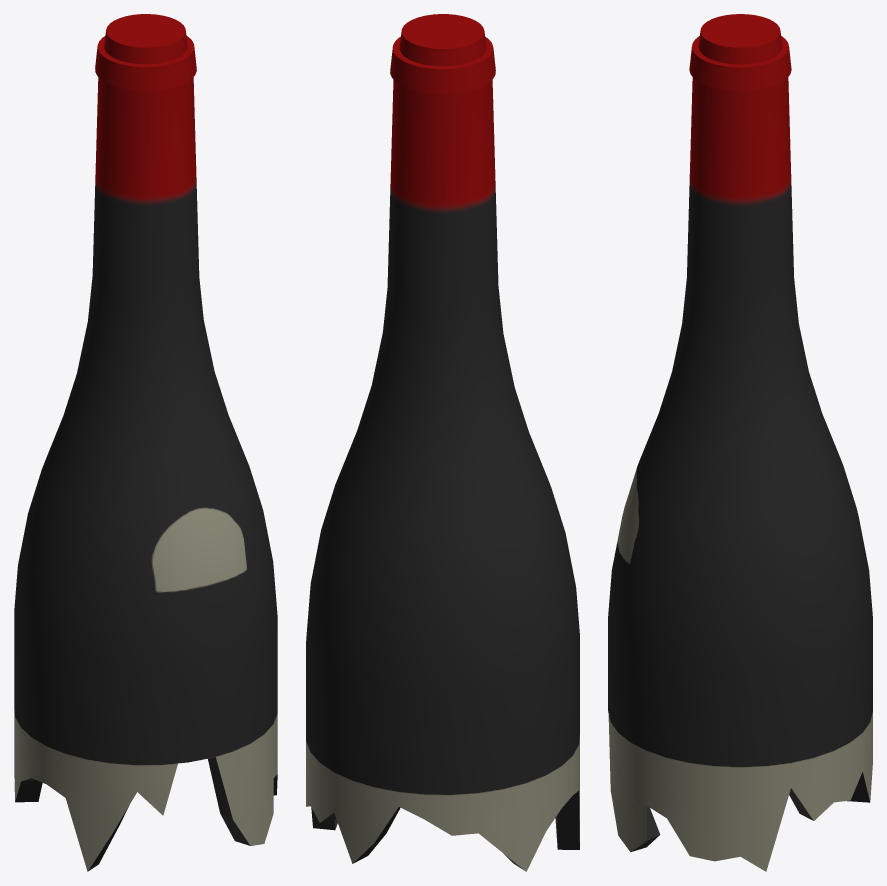
Rendered from wine_bottle_top.glb.
3 renders of one model, left to right at view 1: azimuth 30°, elevation 25°; view 2: azimuth 150°, elevation 25°; view 3: azimuth 270°, elevation 25°, orthographic. The views are drawn at different scales.
Visible parts, largest first — view 1: Cube.001; view 2: Cube.001; view 3: Cube.001.
Boxes of the visible parts, bbox=[...] form: Cube.001: bbox=[14, 14, 277, 871]; Cube.001: bbox=[306, 14, 579, 871]; Cube.001: bbox=[608, 14, 872, 871].
Size of the model in its own units: 1.14 by 3.76 by 1.14.
1 material, 1 textured.
